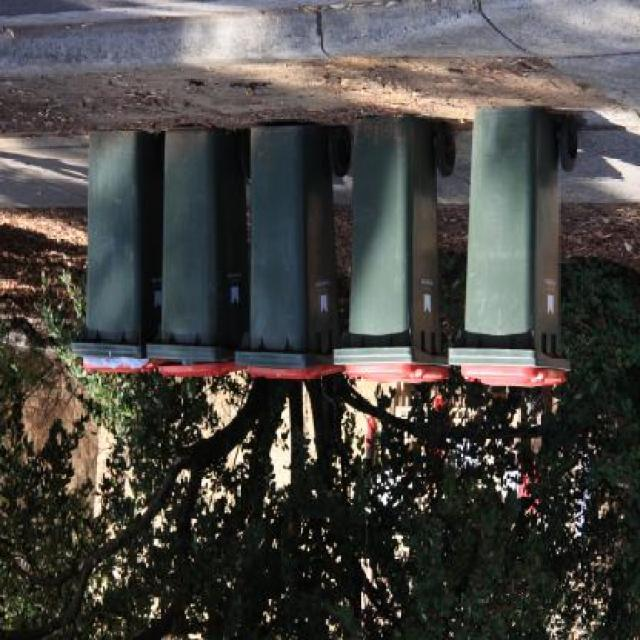garbage container: (447, 97, 589, 394), (331, 96, 459, 409), (235, 110, 355, 393), (148, 119, 250, 392), (67, 124, 161, 385)
